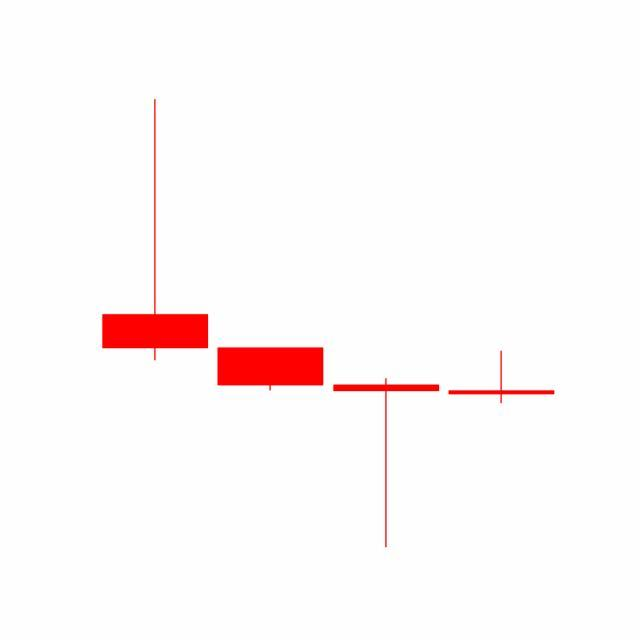Gravestone Doji: (444, 350, 560, 404)
